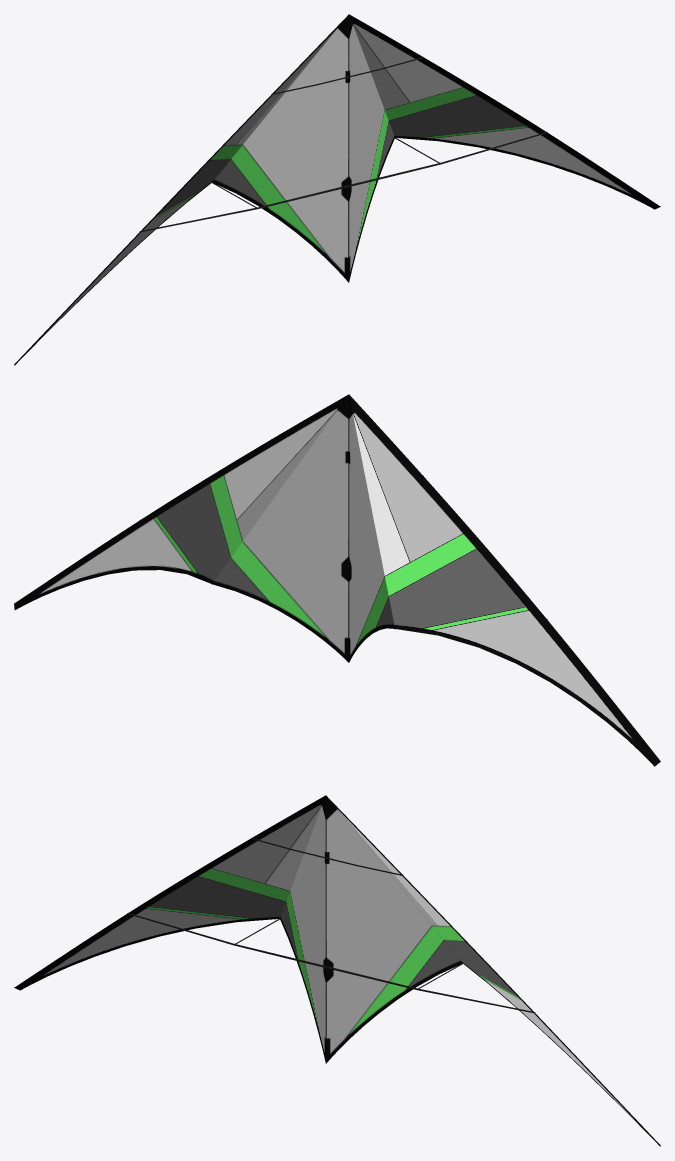
The model's file is Escape-LW-2020.obj.
The picture shows the model from 3 angles, top to bottom: view 1: azimuth 30°, elevation 25°; view 2: azimuth 150°, elevation 25°; view 3: azimuth 330°, elevation 25°; orthographic projection.
Bounding box in the file's own units: 2266 × 950 × 277.
3 materials, 2 textured.
